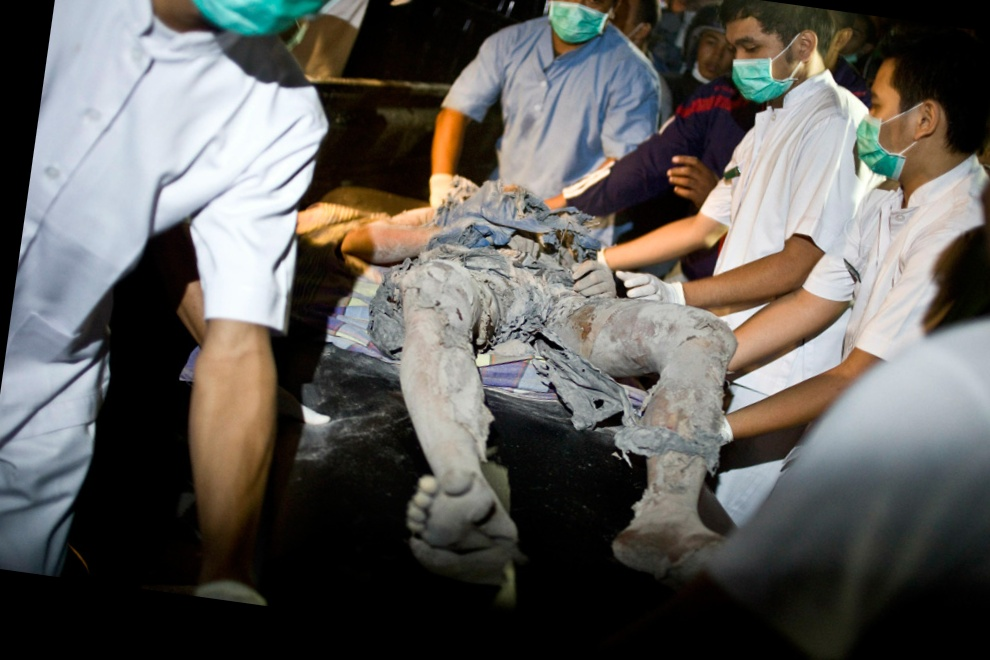BukanKorban: (0, 0, 366, 607), (673, 1, 990, 660), (577, 0, 907, 426), (720, 3, 990, 477), (425, 0, 676, 236), (676, 0, 750, 95)
Korban: (303, 161, 773, 593)
